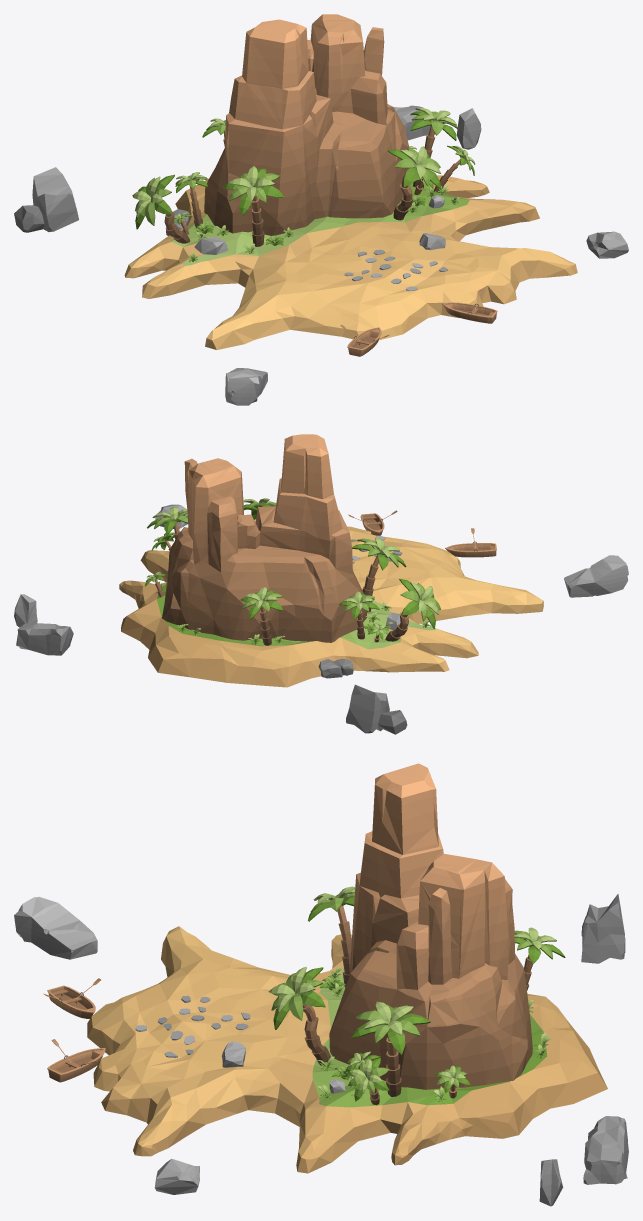
File: field_08.glb
3 renders of one model, top to bottom at view 1: azimuth 30°, elevation 25°; view 2: azimuth 150°, elevation 25°; view 3: azimuth 270°, elevation 25°, orthographic. The views are drawn at different scales.
Parts seen in each view (by area): view 1: adventure island_8, canyon mountain 10_45, stone small 7_17, palm tree tilted 2_51, palm tree bent 2 (1)_36, palm tree bent 2_29, stone small 5_55, palm tree large 2_48, stone small 10_19, boat 2 (1)_16, stone small 13_12, boat 2_46 (+3 smaller); view 2: canyon mountain 10_45, adventure island_8, stone small 5_55, stone small 8_25, stone small 7_17, palm tree bent 2_29, palm tree tilted 2_51, palm tree large 2 (2)_34, palm tree large 2 (1)_40, boat 2_46, palm tree large 2_48, stone small 13_12 (+3 smaller); view 3: adventure island_8, canyon mountain 10_45, stone small 5_55, palm tree large 2_48, stone small 8_25, palm tree bent 2 (1)_36, stone small 7_17, palm tree tilted 2_51, stone small 10_19, boat 2 (1)_16, palm tree tilted 2 (1)_15, palm tree large 2 (2)_34 (+3 smaller).
Boxes of the visible parts, x1,y1,x2,y2 form: adventure island_8: (124,175,577,349); canyon mountain 10_45: (204,14,409,235); stone small 7_17: (32,167,78,231); palm tree tilted 2_51: (223,166,284,246); palm tree bent 2 (1)_36: (387,146,441,220); palm tree bent 2_29: (132,174,190,243); stone small 5_55: (225,368,267,405); palm tree large 2_48: (410,107,458,188); stone small 10_19: (586,231,628,258); boat 2 (1)_16: (442,289,497,323); stone small 13_12: (456,108,481,149); boat 2_46: (340,324,389,356); canyon mountain 10_45: (162,434,366,642); adventure island_8: (119,519,543,687); stone small 5_55: (564,555,628,597); stone small 8_25: (16,623,73,655); stone small 7_17: (346,684,389,733); palm tree bent 2_29: (385,579,440,641); palm tree tilted 2_51: (352,537,406,612); palm tree large 2 (2)_34: (240,587,283,645); palm tree large 2 (1)_40: (338,591,379,639); boat 2_46: (445,528,496,557); palm tree large 2_48: (147,507,187,539); stone small 13_12: (14,594,37,627); adventure island_8: (87,926,607,1173); canyon mountain 10_45: (329,763,532,1089); stone small 5_55: (14,897,97,959); palm tree large 2_48: (351,1001,430,1096); stone small 8_25: (583,1116,628,1184); palm tree bent 2 (1)_36: (268,966,330,1065); stone small 7_17: (581,894,625,963); palm tree tilted 2_51: (308,886,355,987); stone small 10_19: (154,1159,199,1194); boat 2 (1)_16: (47,1039,105,1082); palm tree tilted 2 (1)_15: (346,1058,389,1105); palm tree large 2 (2)_34: (514,927,565,990).
Size of the model in its own units: 19.72 by 9.27 by 18.44.
1 material, 1 textured.
